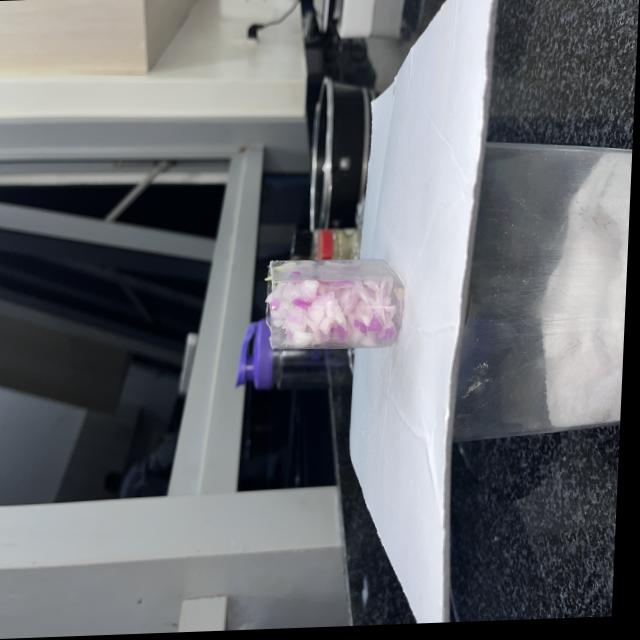sliced_onions: (267, 271, 408, 350)
